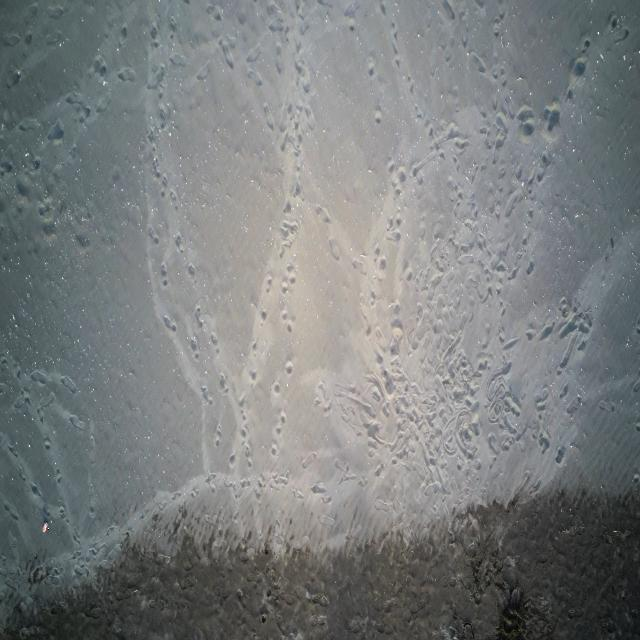tin-and-aluminum-cans: (42, 522, 49, 535)
